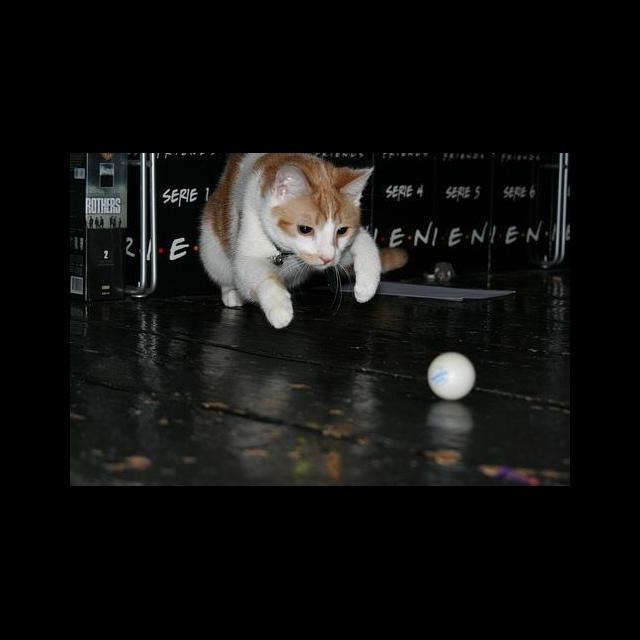ping-pong-ball: (424, 351, 480, 404)
